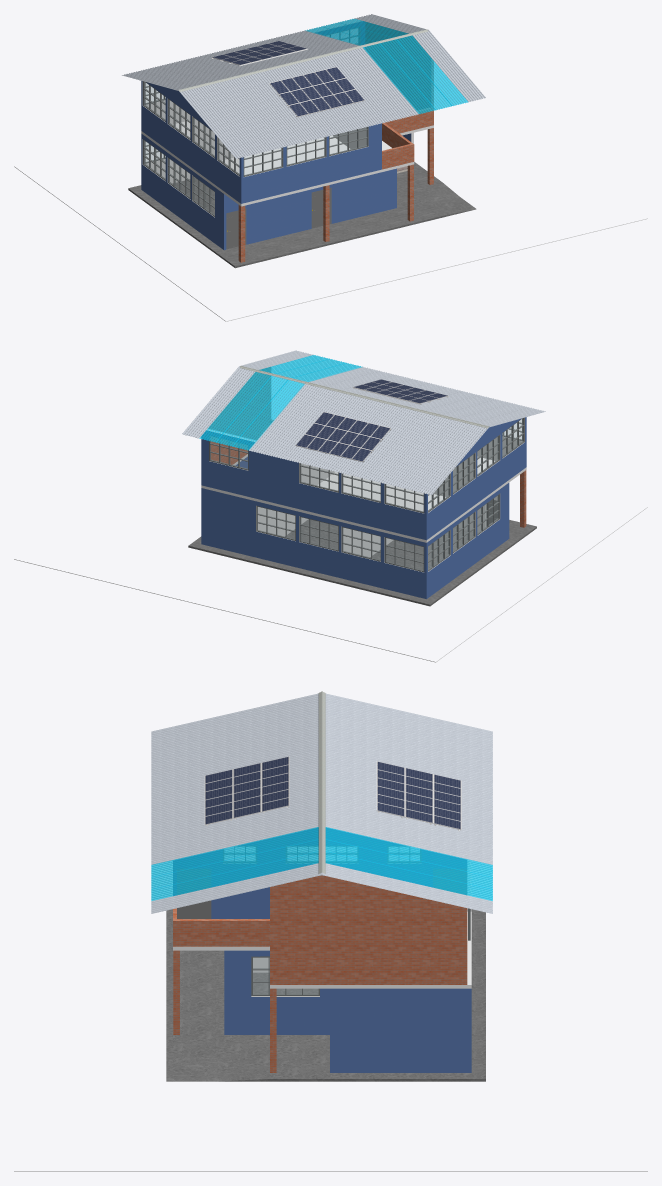
The model's file is nuevacasaclarapeke.glb.
3 views of the same model, one above another, from view 1: azimuth 30°, elevation 25°; view 2: azimuth 150°, elevation 25°; view 3: azimuth 270°, elevation 25° (orthographic). The views are drawn at different scales.
Parts seen in each view (by area): view 1: Material2, Material2.005, Material2.018, Material2.001, Material3.006, Material2.003, Material2.009, Material2.011, Material3.002, Material2.004, Material2.012, Material2.016 (+2 smaller); view 2: Material2.005, Material2, Material2.011, Material2.003, Material2.009, Material2.001, Material2.018, Material3.002, Material3.006, Material2.016, Material2.017, Material2.002; view 3: Material2, Material2.005, Material3.006, Material2.018, Material2.001, Material3.002, Material2.003, Material2.012, Material2.002, Material2.017, Material2.016, Material2.009 (+2 smaller).
Boxes of the visible parts, left/top/right/bottom form: Material2: left=122, top=14, right=485, bottom=158; Material2.005: left=141, top=21, right=411, bottom=250; Material2.018: left=128, top=162, right=476, bottom=268; Material2.001: left=305, top=18, right=468, bottom=113; Material3.006: left=365, top=22, right=433, bottom=169; Material2.003: left=14, top=21, right=647, bottom=321; Material2.009: left=143, top=27, right=368, bottom=216; Material2.011: left=144, top=82, right=366, bottom=214; Material3.002: left=213, top=41, right=364, bottom=116; Material2.004: left=238, top=128, right=433, bottom=262; Material2.012: left=226, top=188, right=331, bottom=249; Material2.016: left=141, top=125, right=433, bottom=206; Material2.005: left=201, top=417, right=526, bottom=598; Material2: left=182, top=350, right=545, bottom=494; Material2.011: left=210, top=419, right=522, bottom=570; Material2.003: left=14, top=388, right=647, bottom=662; Material2.009: left=209, top=417, right=524, bottom=572; Material2.001: left=199, top=355, right=362, bottom=450; Material2.018: left=188, top=519, right=536, bottom=606; Material3.002: left=296, top=379, right=447, bottom=461; Material3.006: left=208, top=367, right=273, bottom=464; Material2.016: left=201, top=467, right=526, bottom=542; Material2.017: left=239, top=366, right=489, bottom=428; Material2.002: left=295, top=382, right=448, bottom=462; Material2: left=151, top=693, right=492, bottom=913; Material2.005: left=173, top=828, right=471, bottom=1072; Material3.006: left=173, top=875, right=467, bottom=984; Material2.018: left=166, top=909, right=485, bottom=1081; Material2.001: left=151, top=827, right=492, bottom=900; Material3.002: left=205, top=756, right=461, bottom=829; Material2.003: left=14, top=806, right=647, bottom=1171; Material2.012: left=177, top=869, right=466, bottom=918; Material2.002: left=204, top=756, right=461, bottom=830; Material2.017: left=318, top=691, right=325, bottom=873; Material2.016: left=173, top=946, right=471, bottom=988; Material2.009: left=223, top=846, right=470, bottom=996.
Size of the model in its own units: 58.64 by 18.97 by 51.05.
21 materials, 15 textured.
